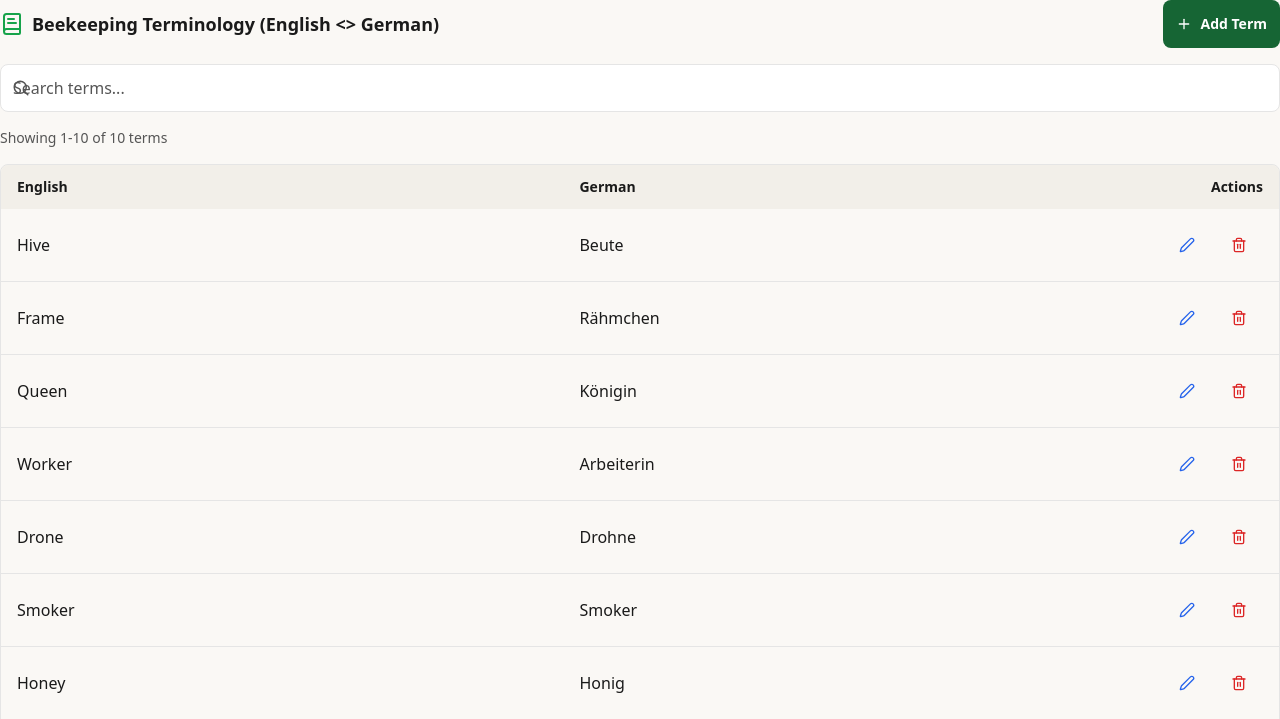
TerminologyTable › Add Term Functionality › should hide add form when Cancel is clicked
This screenshot has width=1280, height=719.
Click the button "Add Term". click: {"x": 1222, "y": 24}
box: 1164,0 -> 1279,48
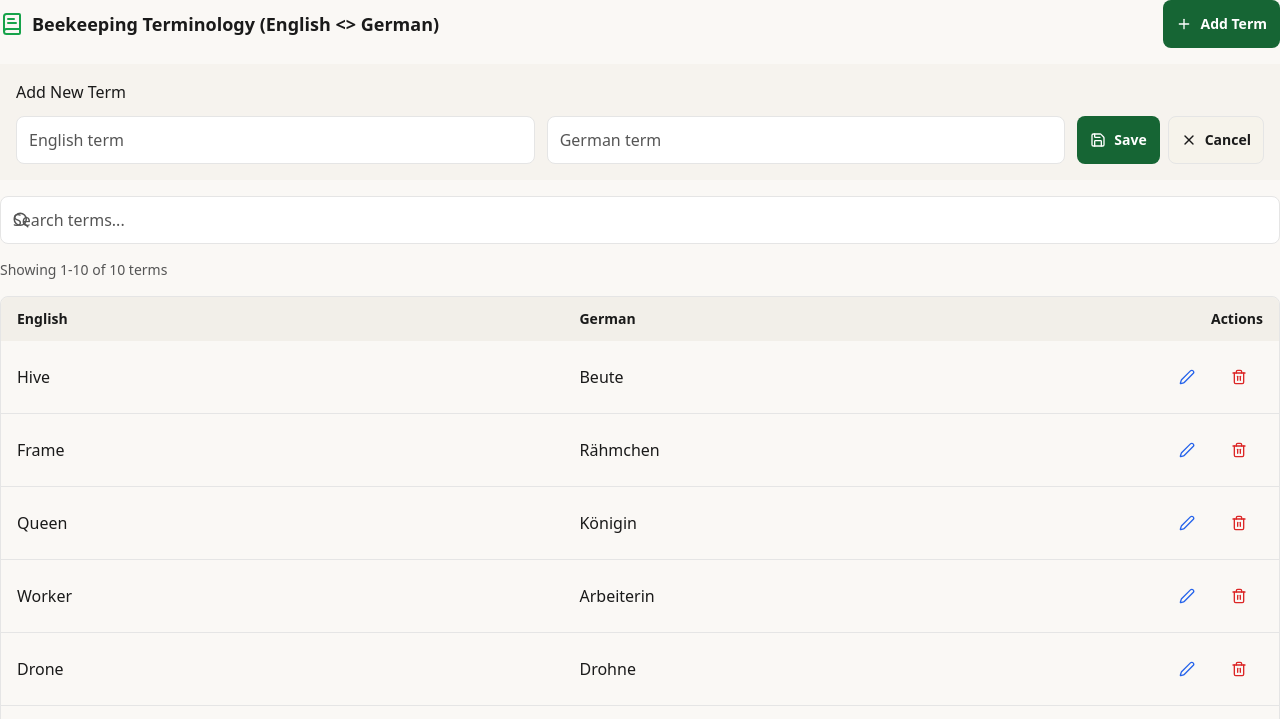
Expected: the heading "Add New Term" is shown, 16,81 -> 126,103
Click the button "Cancel". click: {"x": 1216, "y": 140}
box: 1168,116 -> 1264,164
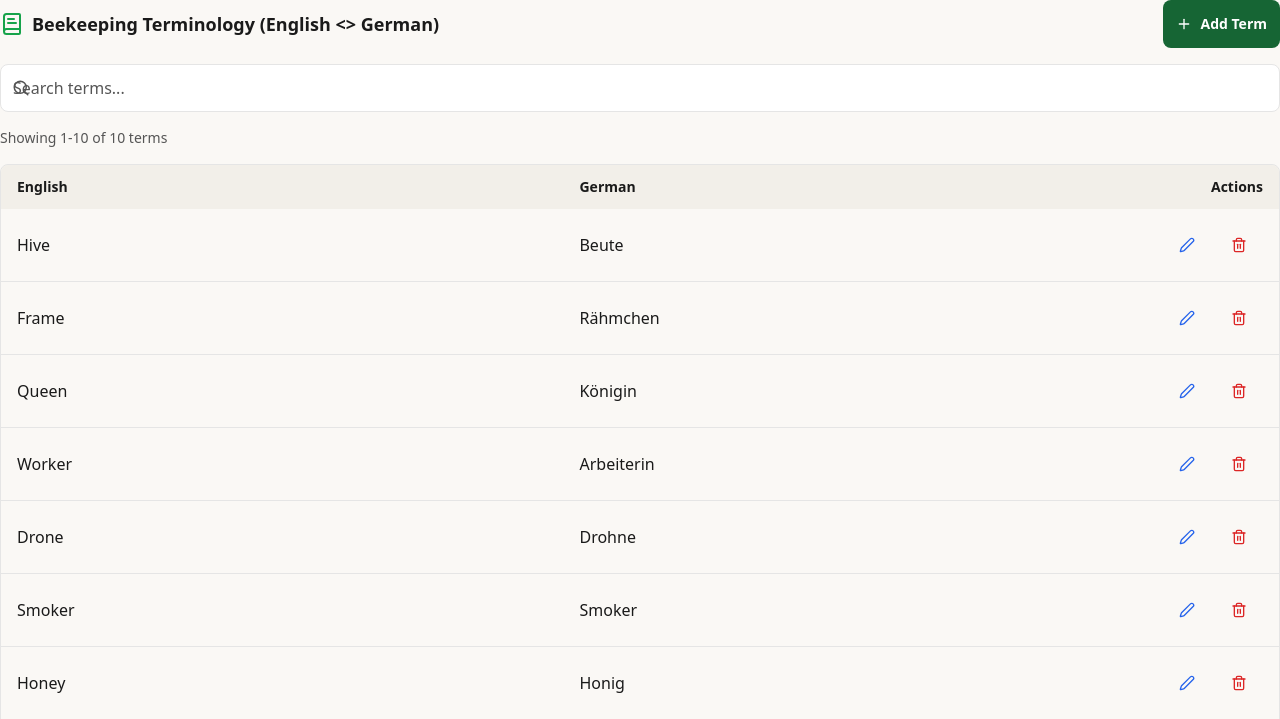
Expected: the heading "Add New Term" is gone
